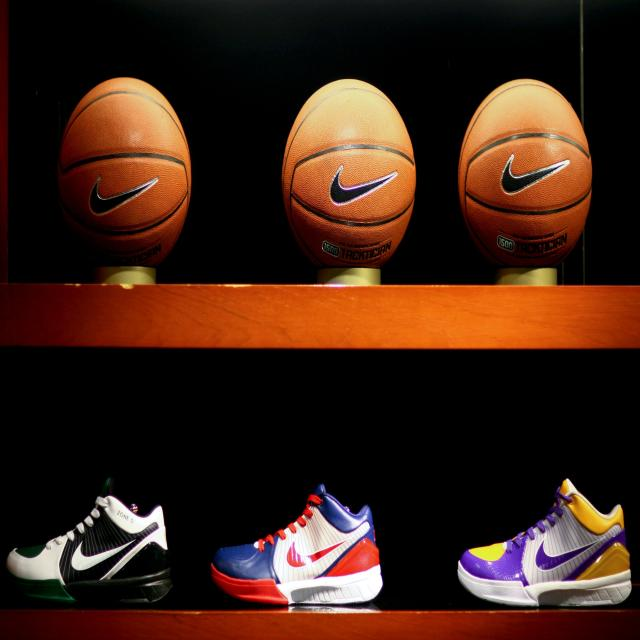nike: (84, 173, 166, 219), (328, 162, 401, 206), (67, 538, 137, 572), (535, 538, 598, 571)
